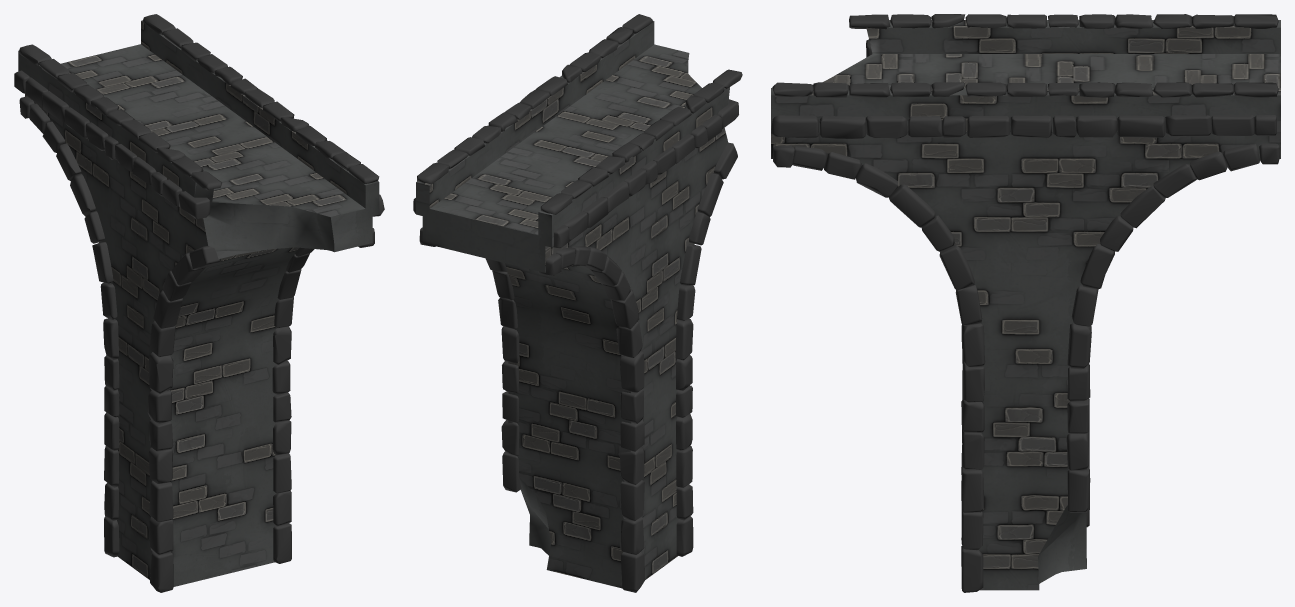
File: SM_Bridge_03.FBX
3 renders of one model, left to right at view 1: azimuth 30°, elevation 25°; view 2: azimuth 150°, elevation 25°; view 3: azimuth 270°, elevation 25°, orthographic. The views are drawn at different scales.
Visible parts, largest first — view 1: SM_Bridge_03_LOD0; view 2: SM_Bridge_03_LOD0; view 3: SM_Bridge_03_LOD0.
Boxes of the visible parts, <box> form: SM_Bridge_03_LOD0: <box>14,14,384,592</box>; SM_Bridge_03_LOD0: <box>413,14,742,592</box>; SM_Bridge_03_LOD0: <box>771,14,1280,592</box>.
Bounding box in the file's own units: 544 × 1401 × 1537.
